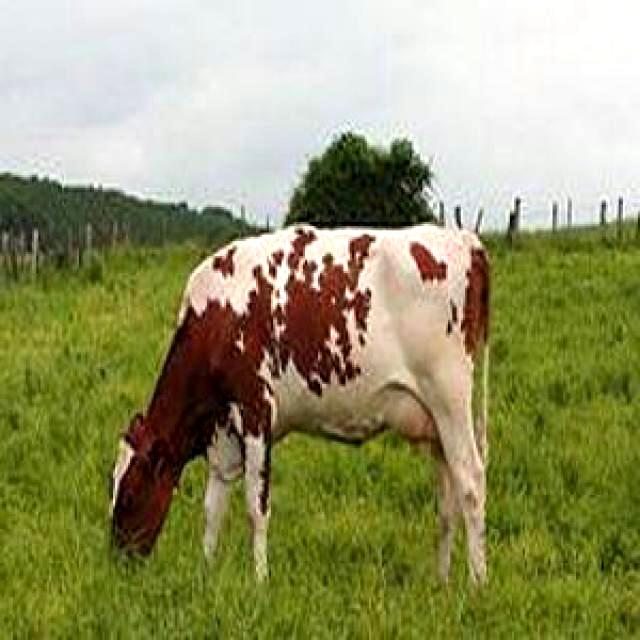COW: (112, 225, 489, 582)
